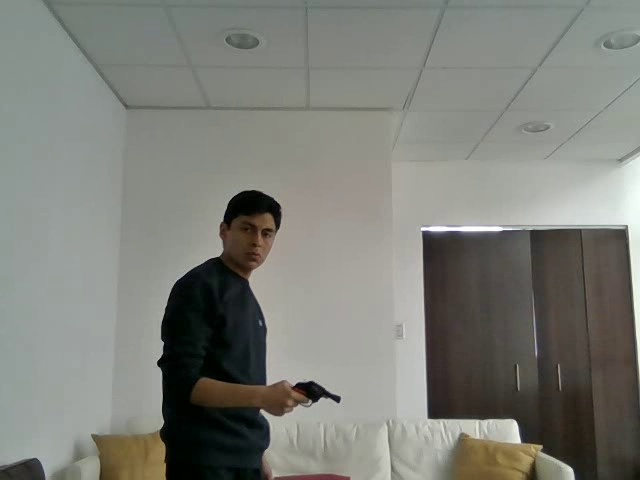pistola: (280, 371, 346, 411)
